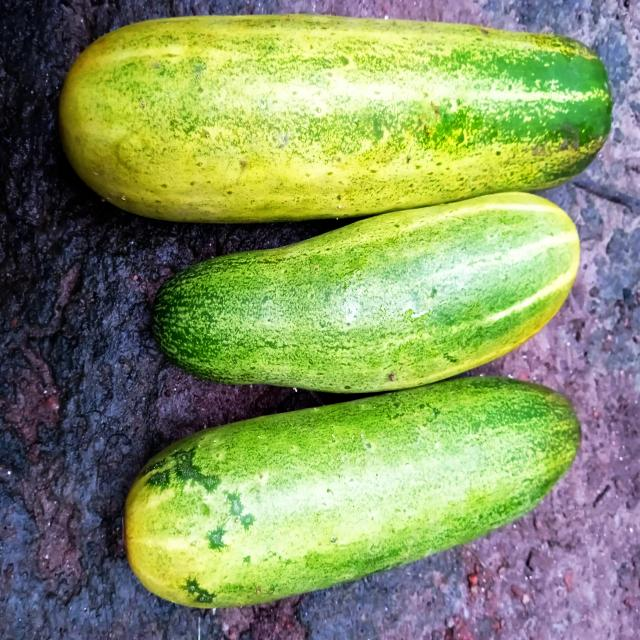Fresh-Cucumber: (57, 12, 616, 226), (120, 372, 583, 612), (148, 190, 582, 398)
